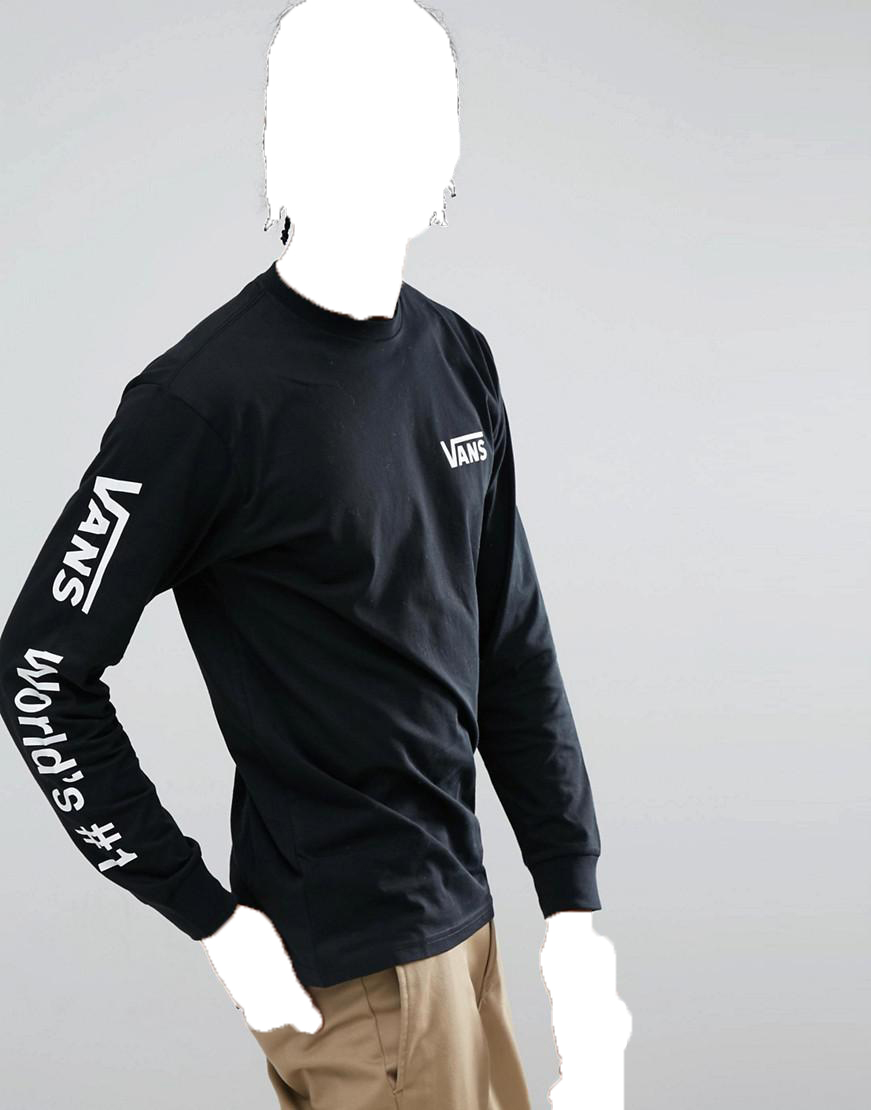teeshirt: (8, 268, 612, 949)
